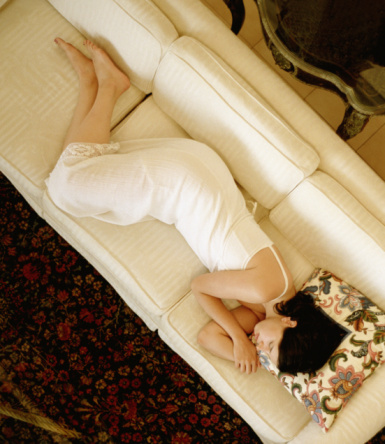deitado: (0, 0, 375, 437)
